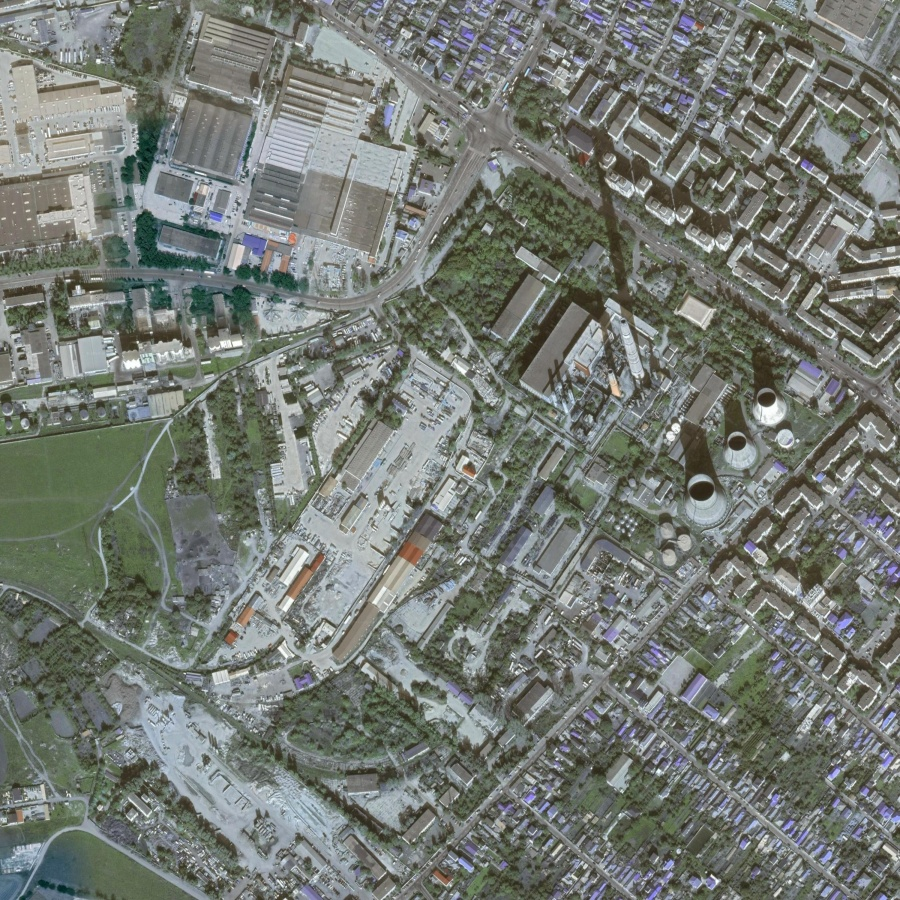PowerPlant: (527, 209, 813, 553)
